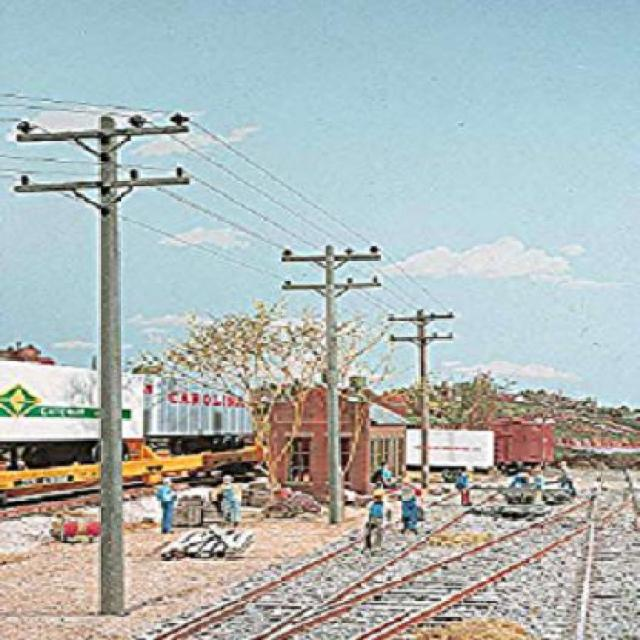pole: (11, 98, 197, 604), (272, 236, 388, 526), (383, 309, 452, 486)
